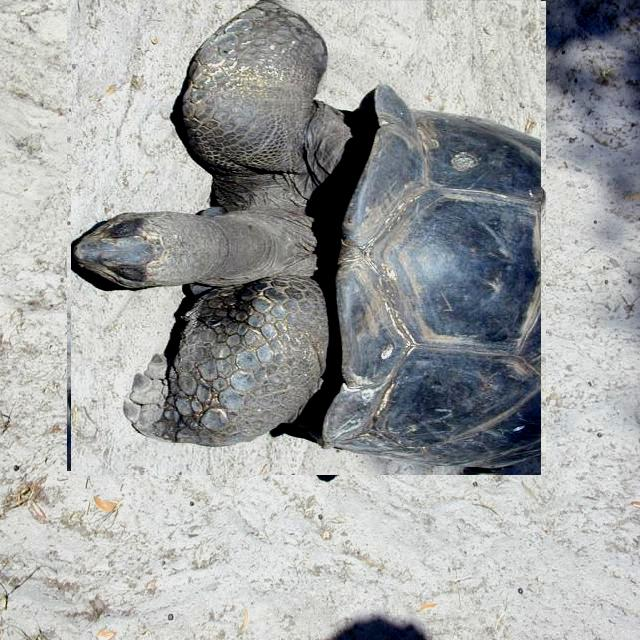Sea turtle: (69, 0, 543, 473)
